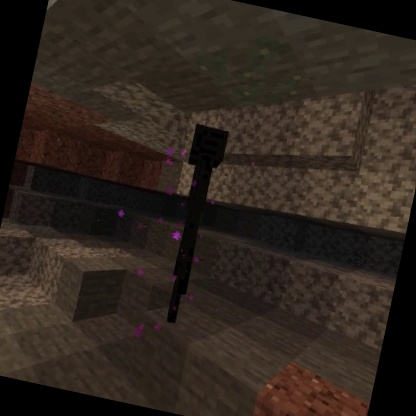enderman: (151, 121, 232, 331)
